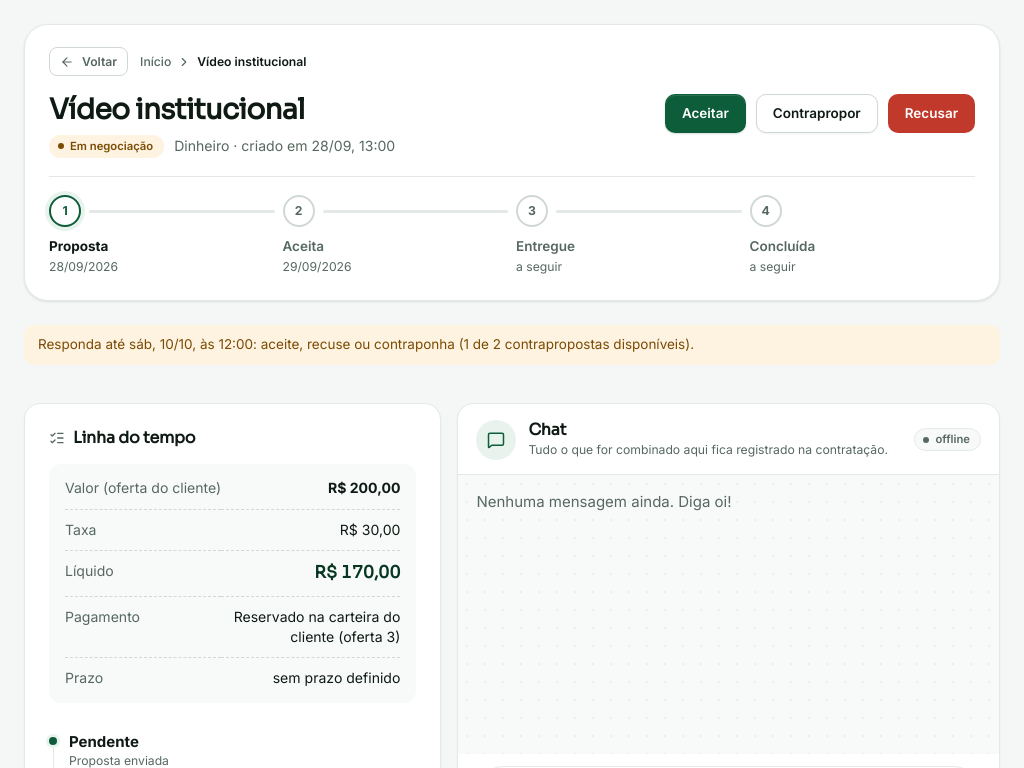
Scenario: SalaContratoView: negociação RN-030 › o freelancer abre o editor mantendo valor e sem introduzir prazo
The image size is (1024, 768).
Expected: the heading "Vídeo institucional" is shown, x1=49 y1=92 x2=305 y2=127
Click the button "Contrapropor" at coordinates (817, 114), box x1=756 y1=94 x2=878 y2=133
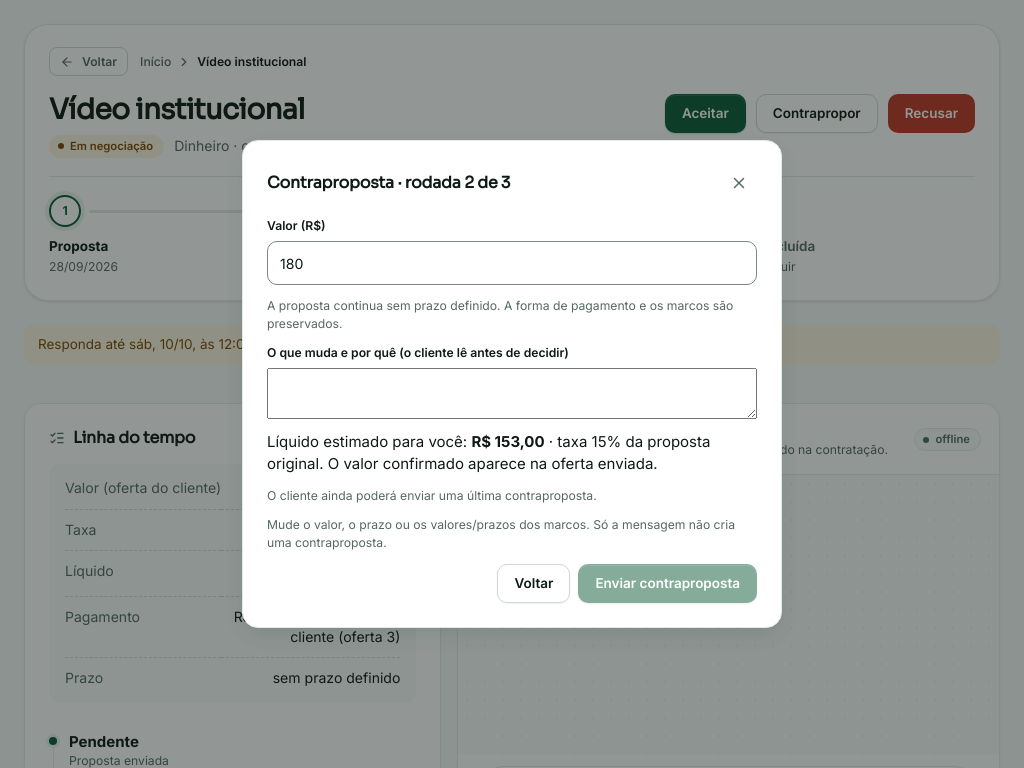
Expected: the dialog "Contraproposta · rodada 2 de 3" is shown, x1=242 y1=140 x2=782 y2=628
Expected: the number field labelled "Valor (R$)" holds "180", x1=267 y1=241 x2=757 y2=285
Expected: the button "Enviar contraproposta" is disabled, x1=578 y1=564 x2=757 y2=603
